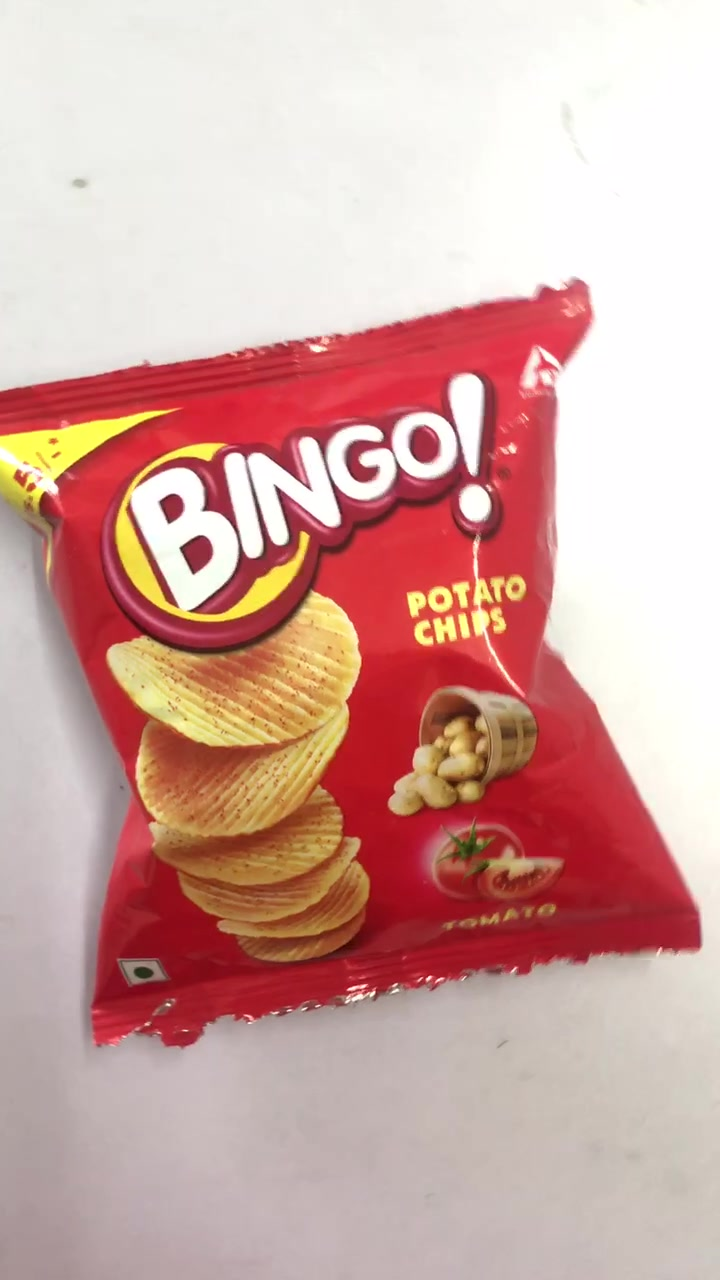Bingo: (3, 348, 701, 948)
